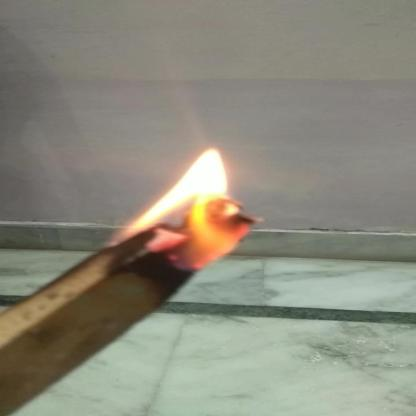fire: (123, 140, 262, 268)
